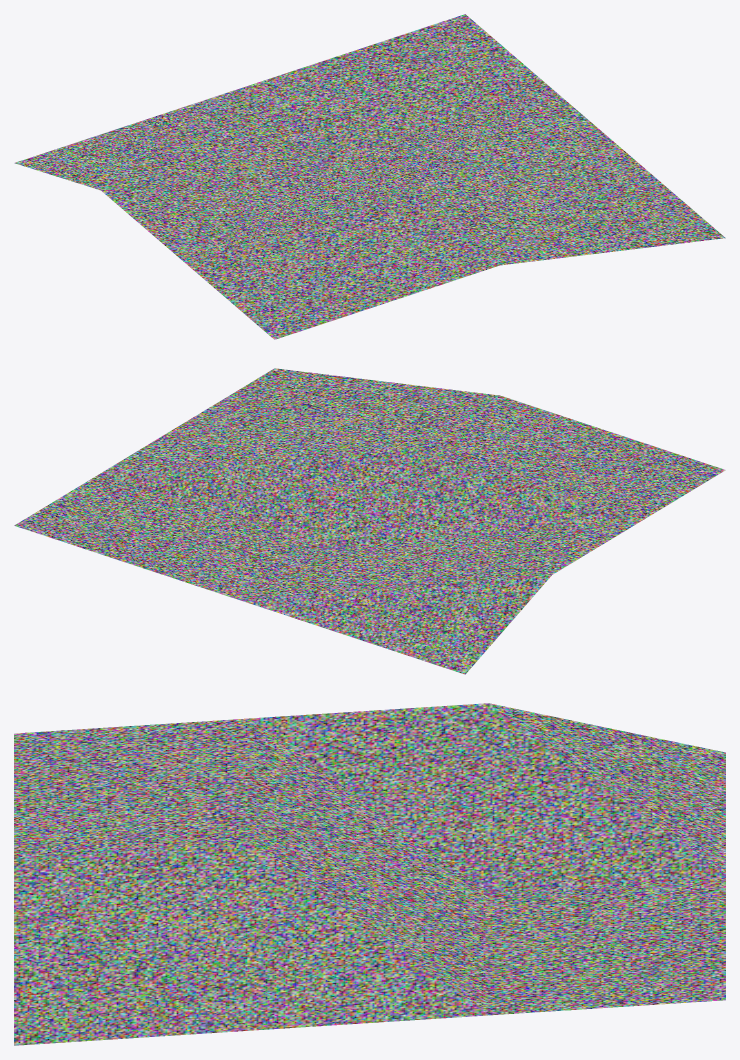
The model's file is glass.glb.
3 renders of one model, top to bottom at view 1: azimuth 30°, elevation 25°; view 2: azimuth 150°, elevation 25°; view 3: azimuth 270°, elevation 25°, orthographic. The views are drawn at different scales.
Parts seen in each view (by area): view 1: glass; view 2: glass; view 3: glass.
Boxes of the visible parts, x1,y1,x2,y2 form: glass: (14, 14, 725, 339); glass: (14, 368, 725, 674); glass: (14, 703, 725, 1045).
Size of the model in its own units: 1 by 0.0941 by 1.
Materials: 1 (1 with a texture image).
